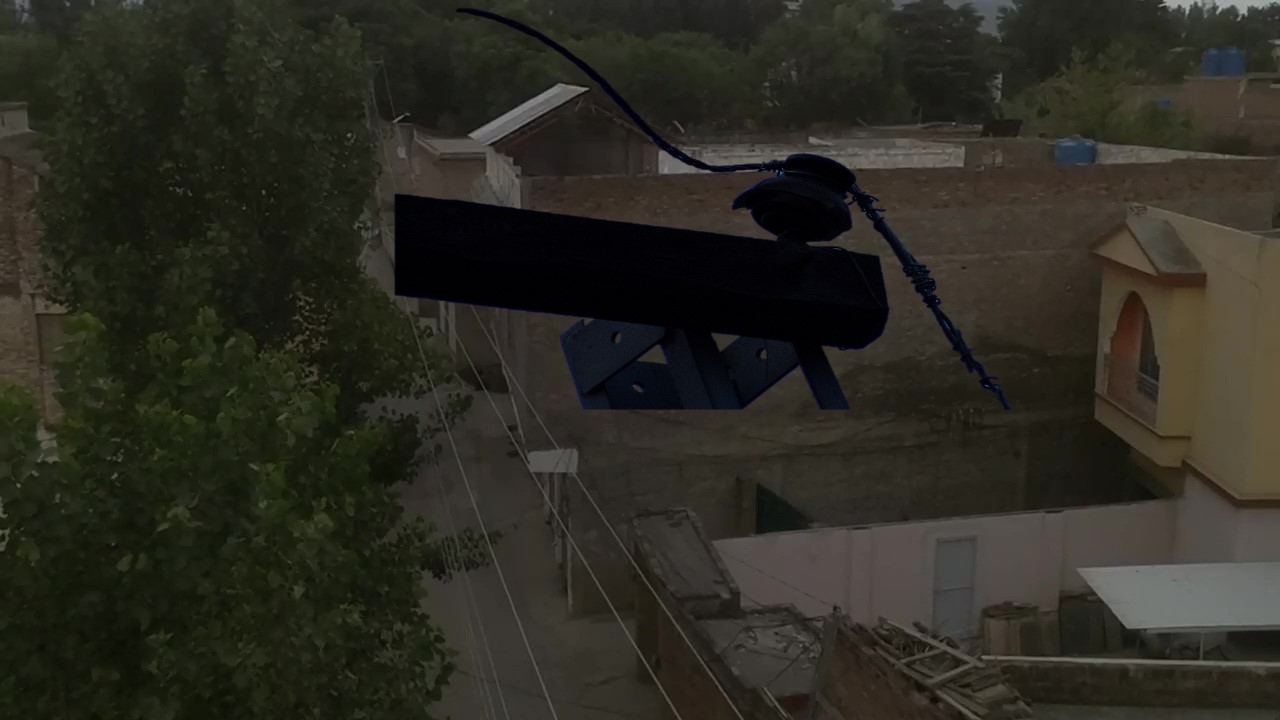defect_pin: (731, 152, 864, 248)
